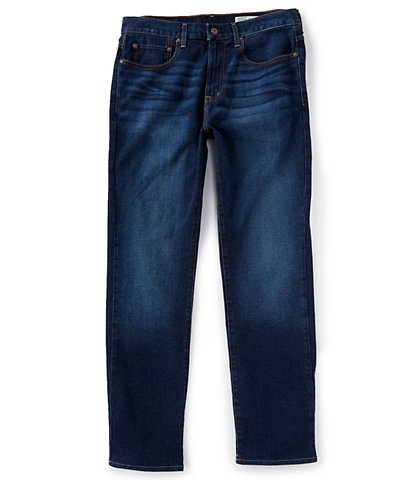jeans: (91, 11, 357, 479)
